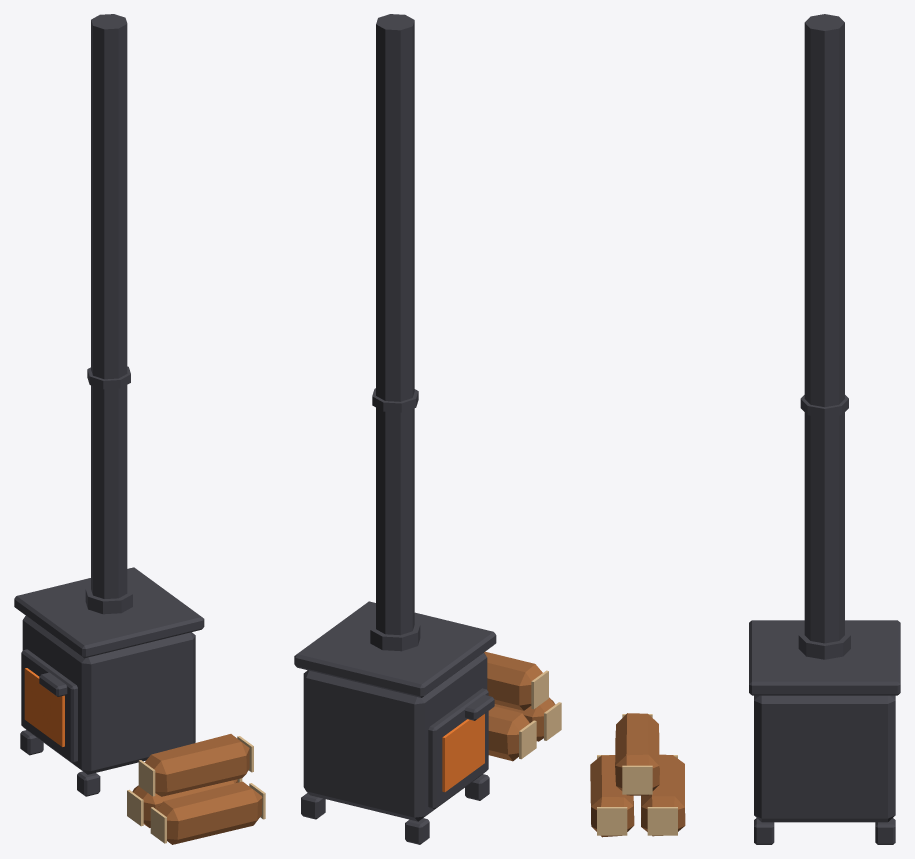
Rendered from Stove.fbx.
3 renders of one model, left to right at view 1: azimuth 30°, elevation 25°; view 2: azimuth 150°, elevation 25°; view 3: azimuth 270°, elevation 25°, orthographic. The views are drawn at different scales.
Parts seen in each view (by area): view 1: Stove, Pipe, Log, Fire, Rings; view 2: Stove, Pipe, Log, Fire, Rings; view 3: Stove, Pipe, Log, Rings.
Boxes of the visible parts, x1,y1,x2,y2 form: Stove: [14, 567, 204, 796]; Pipe: [85, 14, 132, 614]; Log: [132, 734, 262, 844]; Fire: [24, 668, 64, 746]; Rings: [127, 736, 265, 843]; Stove: [294, 601, 496, 844]; Pipe: [370, 14, 420, 651]; Log: [484, 651, 555, 761]; Fire: [442, 714, 484, 792]; Rings: [519, 670, 561, 759]; Stove: [749, 620, 900, 844]; Pipe: [798, 14, 850, 659]; Log: [590, 713, 685, 837]; Rings: [597, 714, 677, 835].
Bounding box in the file's own units: 3.3 × 17.3 × 6.13.
